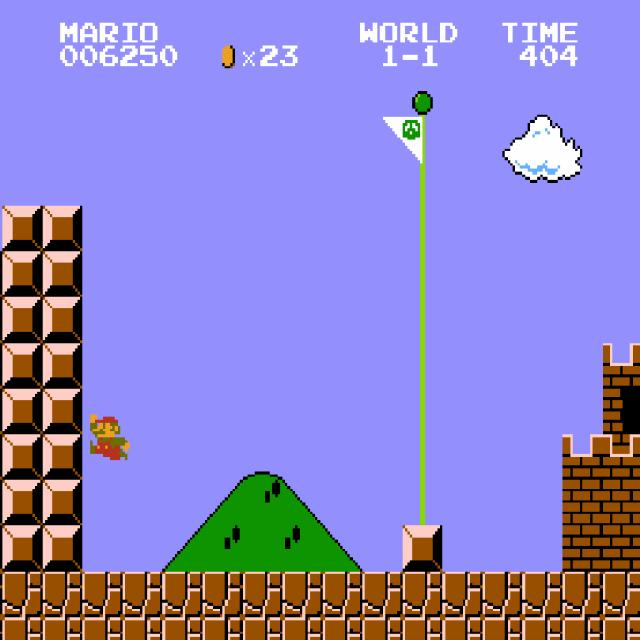goal_pole: (402, 114, 443, 160), (402, 160, 443, 206), (402, 297, 443, 343), (402, 434, 443, 480), (402, 480, 443, 526), (402, 69, 443, 114), (402, 206, 443, 251), (402, 252, 443, 297), (402, 343, 443, 388), (402, 389, 443, 434)
hard_block: (2, 297, 43, 343), (2, 434, 43, 480), (2, 480, 43, 526), (42, 297, 83, 343), (42, 434, 83, 480), (42, 480, 83, 526), (2, 206, 43, 251), (2, 252, 43, 297), (2, 343, 43, 388), (2, 389, 43, 434), (2, 526, 43, 571), (42, 206, 83, 251), (42, 252, 83, 297), (42, 343, 83, 388), (42, 389, 83, 434), (42, 526, 83, 571), (402, 526, 443, 571), (0, 251, 2, 297), (0, 342, 2, 388), (0, 388, 2, 434), (0, 525, 2, 571), (0, 297, 2, 342), (0, 434, 2, 479), (0, 480, 2, 525)
little_mario: (88, 412, 130, 460)
undestructible_block: (2, 572, 43, 617), (42, 572, 83, 617), (82, 572, 123, 617), (122, 572, 163, 617), (162, 572, 203, 617), (202, 572, 243, 617), (242, 572, 283, 617), (282, 572, 323, 617), (322, 572, 363, 617), (362, 572, 403, 617), (402, 572, 443, 617), (442, 572, 483, 617), (482, 572, 523, 617), (522, 572, 563, 617), (562, 572, 603, 617), (603, 572, 640, 617), (2, 617, 43, 640), (42, 617, 83, 640), (82, 617, 123, 640), (122, 617, 163, 640), (162, 617, 203, 640), (202, 617, 243, 640), (242, 617, 283, 640), (282, 617, 323, 640), (322, 617, 363, 640), (362, 617, 403, 640), (402, 617, 443, 640), (442, 617, 483, 640), (482, 617, 523, 640), (522, 617, 563, 640), (562, 617, 603, 640), (603, 617, 640, 640), (0, 571, 2, 617), (0, 617, 2, 639)
